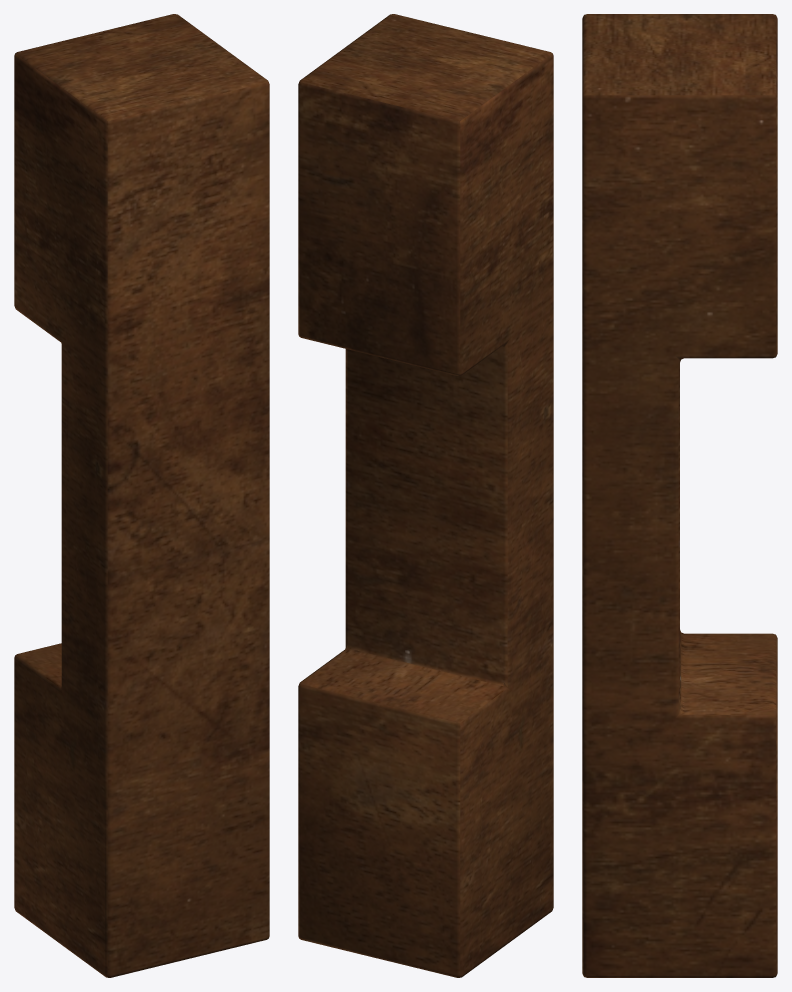
Rendered from luban_c.glb.
3 renders of one model, left to right at view 1: azimuth 30°, elevation 25°; view 2: azimuth 150°, elevation 25°; view 3: azimuth 270°, elevation 25°, orthographic. The views are drawn at different scales.
Parts seen in each view (by area): view 1: luban_c; view 2: luban_c; view 3: luban_c.
Boxes of the visible parts, box(x1,y1,x2,y2) form: luban_c: box(14, 14, 269, 977); luban_c: box(298, 14, 553, 977); luban_c: box(582, 14, 777, 977).
Size of the model in its own units: 2 by 10 by 2.
Materials: 1 (1 with a texture image).
